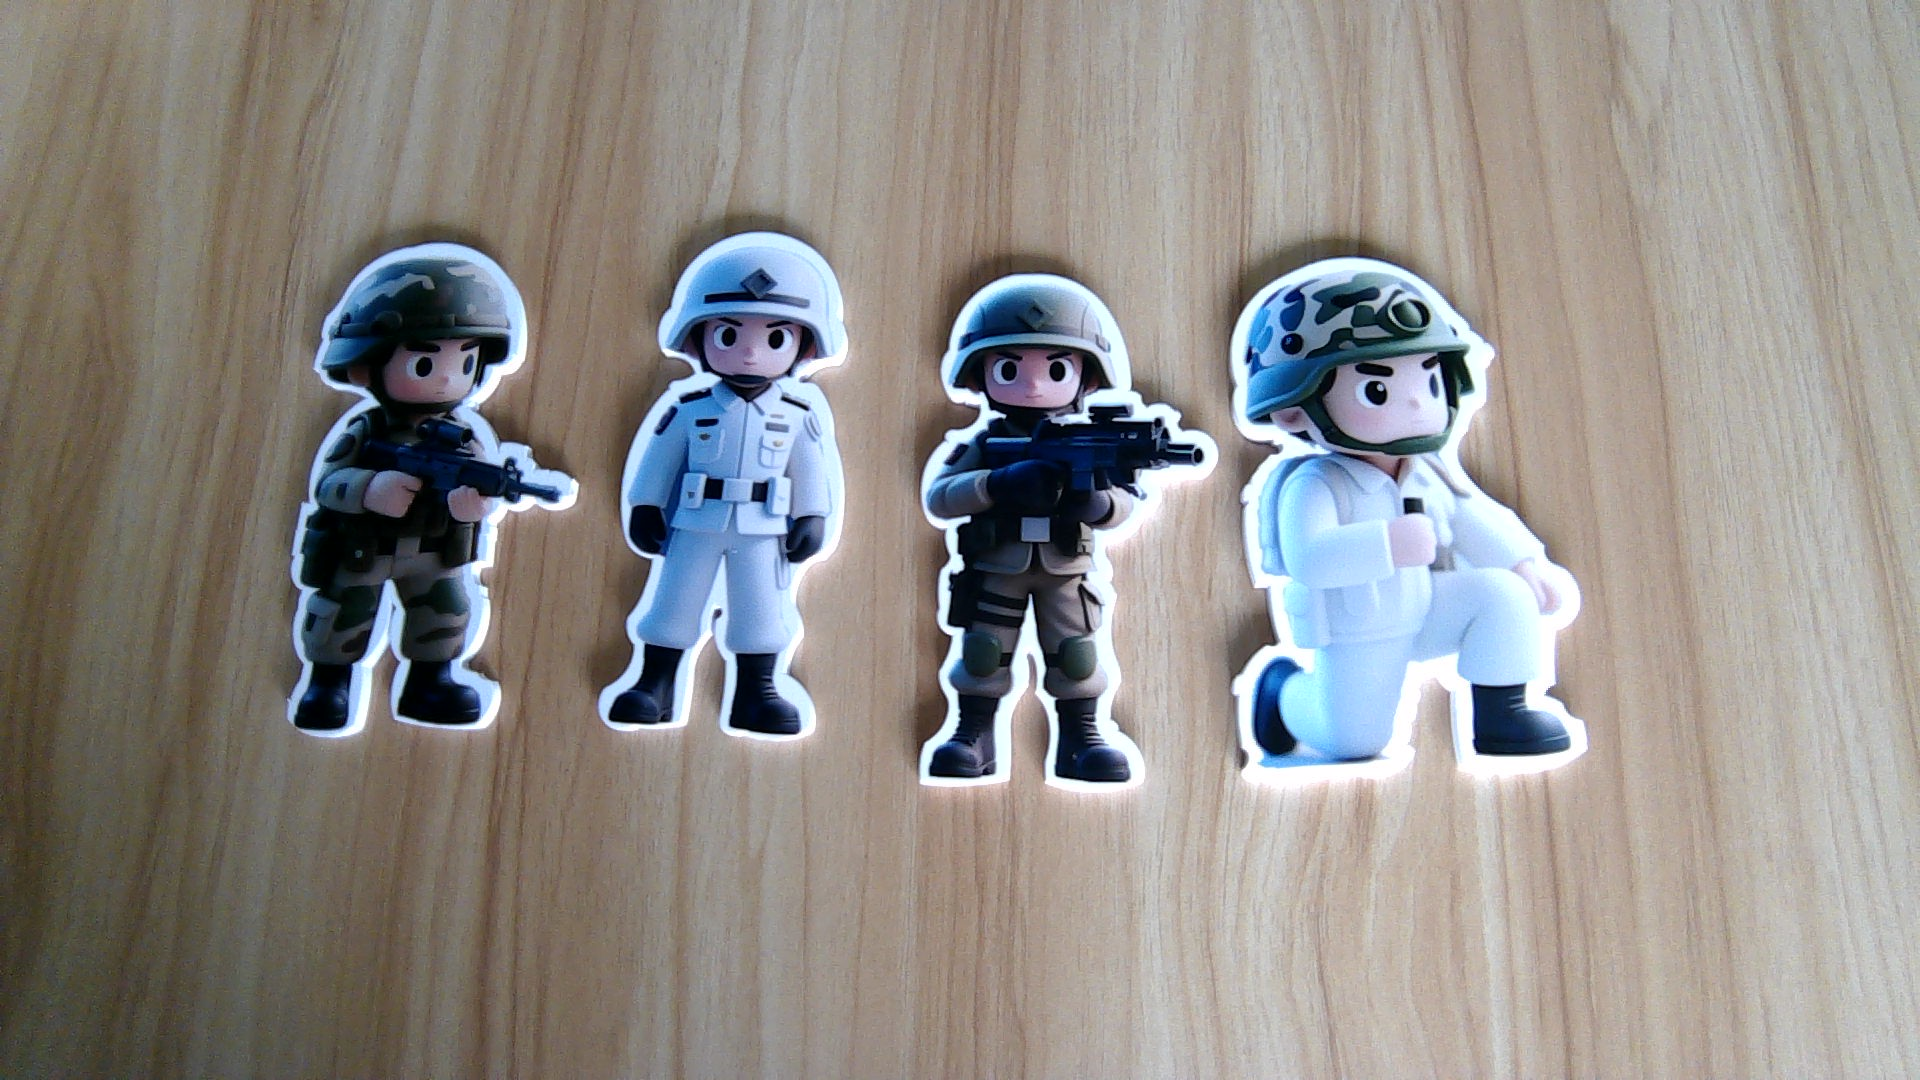人质: (1229, 454, 1596, 793), (599, 375, 851, 741)
友军: (916, 405, 1205, 798), (284, 396, 572, 746)
